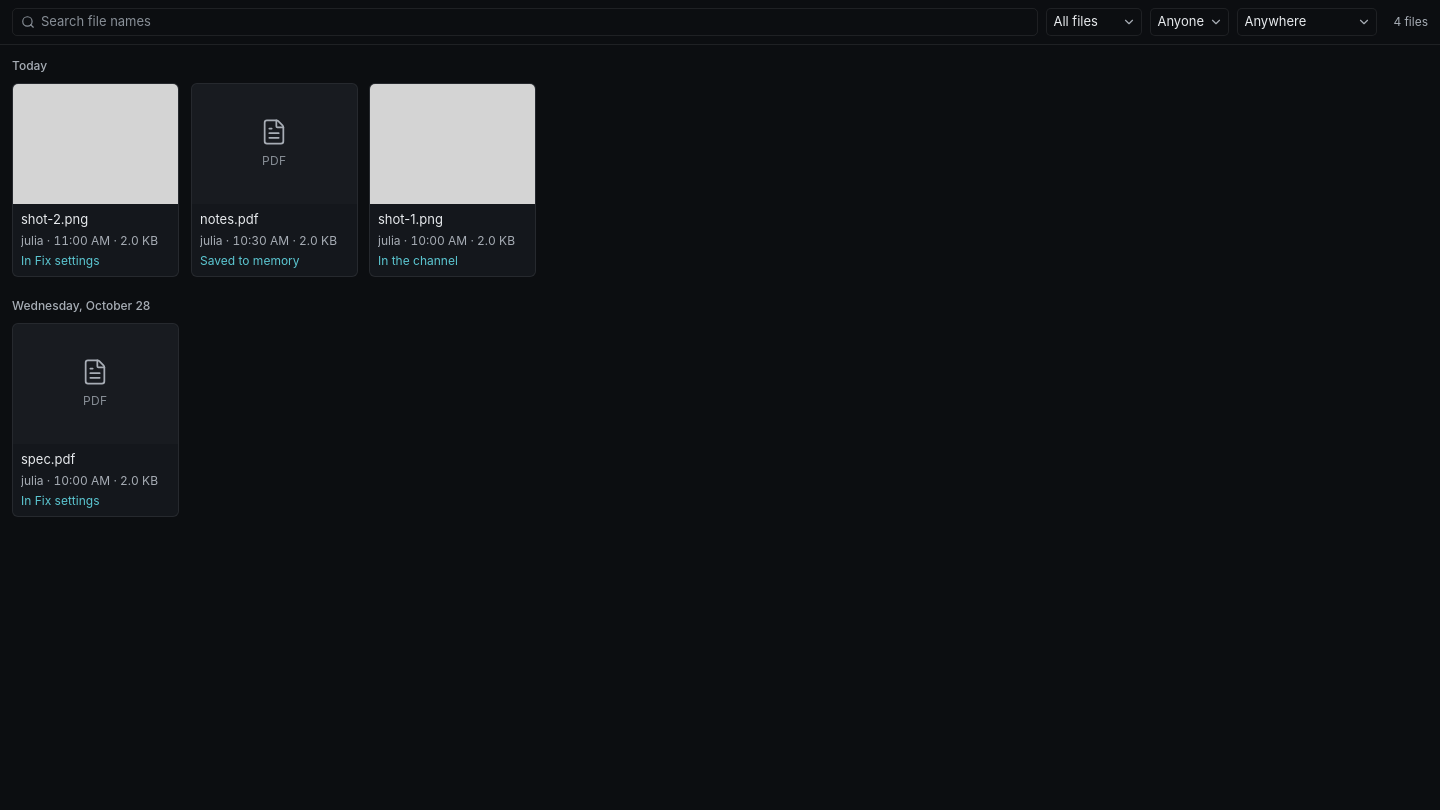
Test case: <RoomFiles /> › opens the preview at the file clicked, and its arrows step through the gallery
Click the button with aria-label "Preview notes.pdf" at (274, 144), box 192,84 -> 356,204
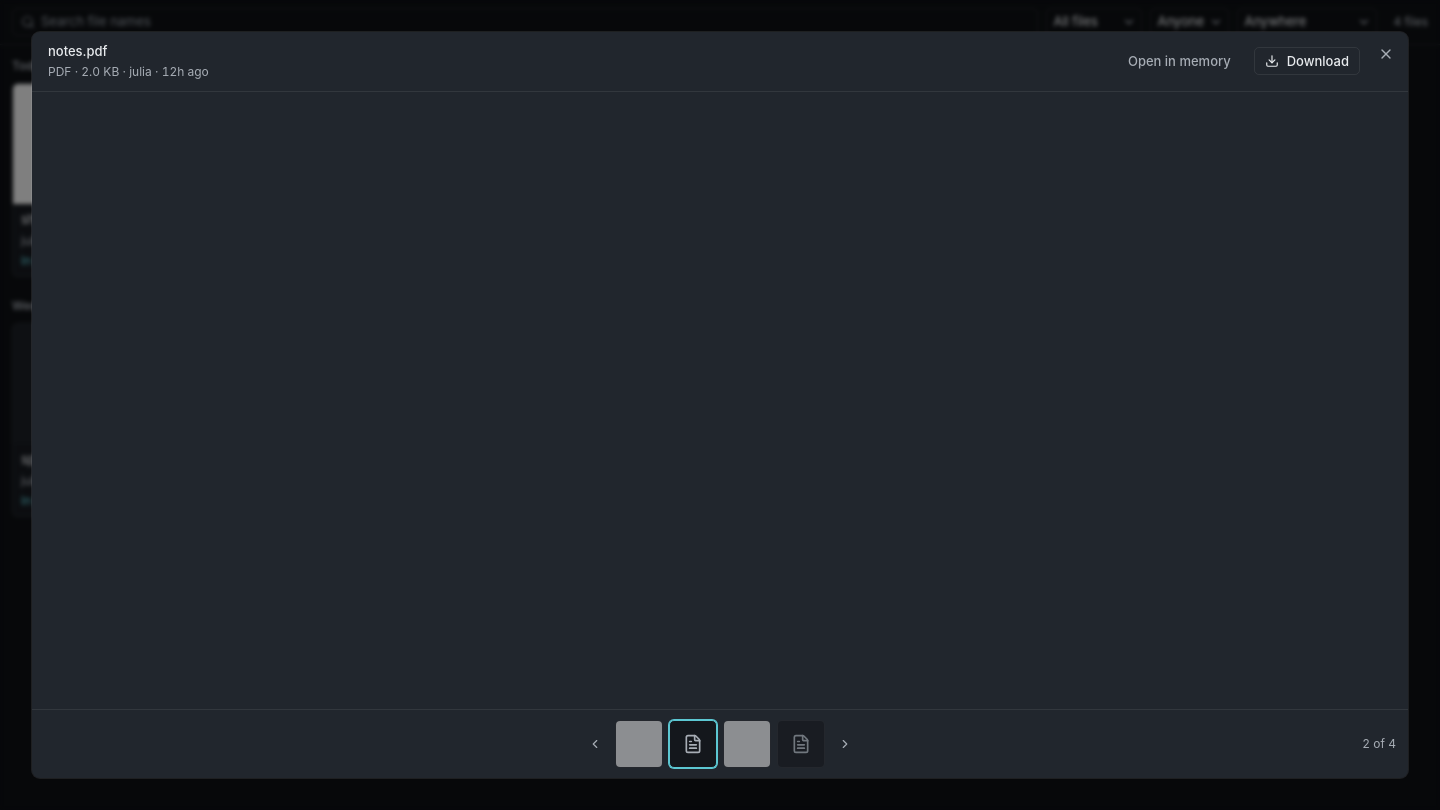
Expected: the text "2 of 4" is shown, 1362,736 -> 1396,751
Press ArrowRight in the dialog
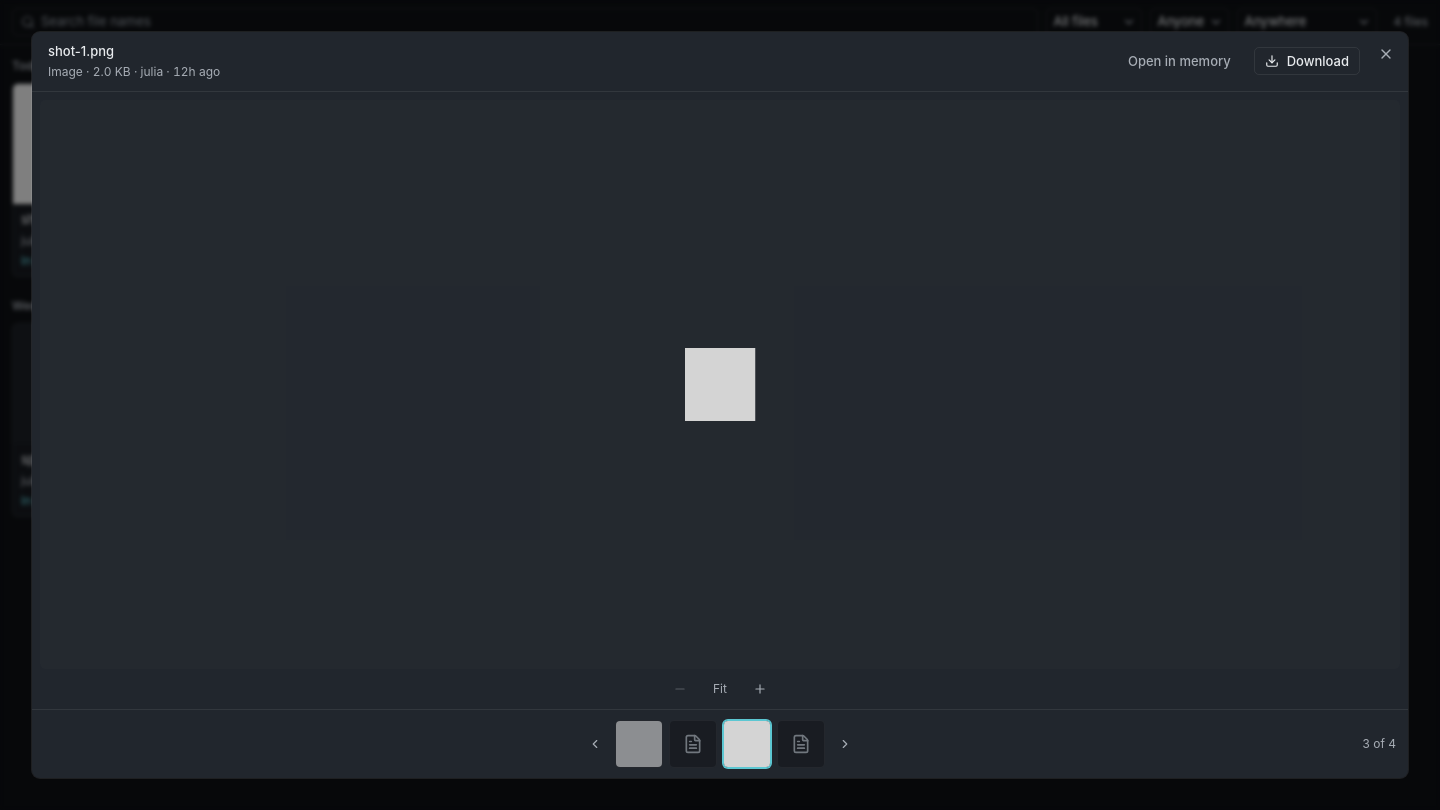
Expected: the text "3 of 4" is shown, 1362,736 -> 1396,751
Expected: the heading "shot-1.png" is shown, 48,43 -> 114,59
Press ArrowRight in the dialog
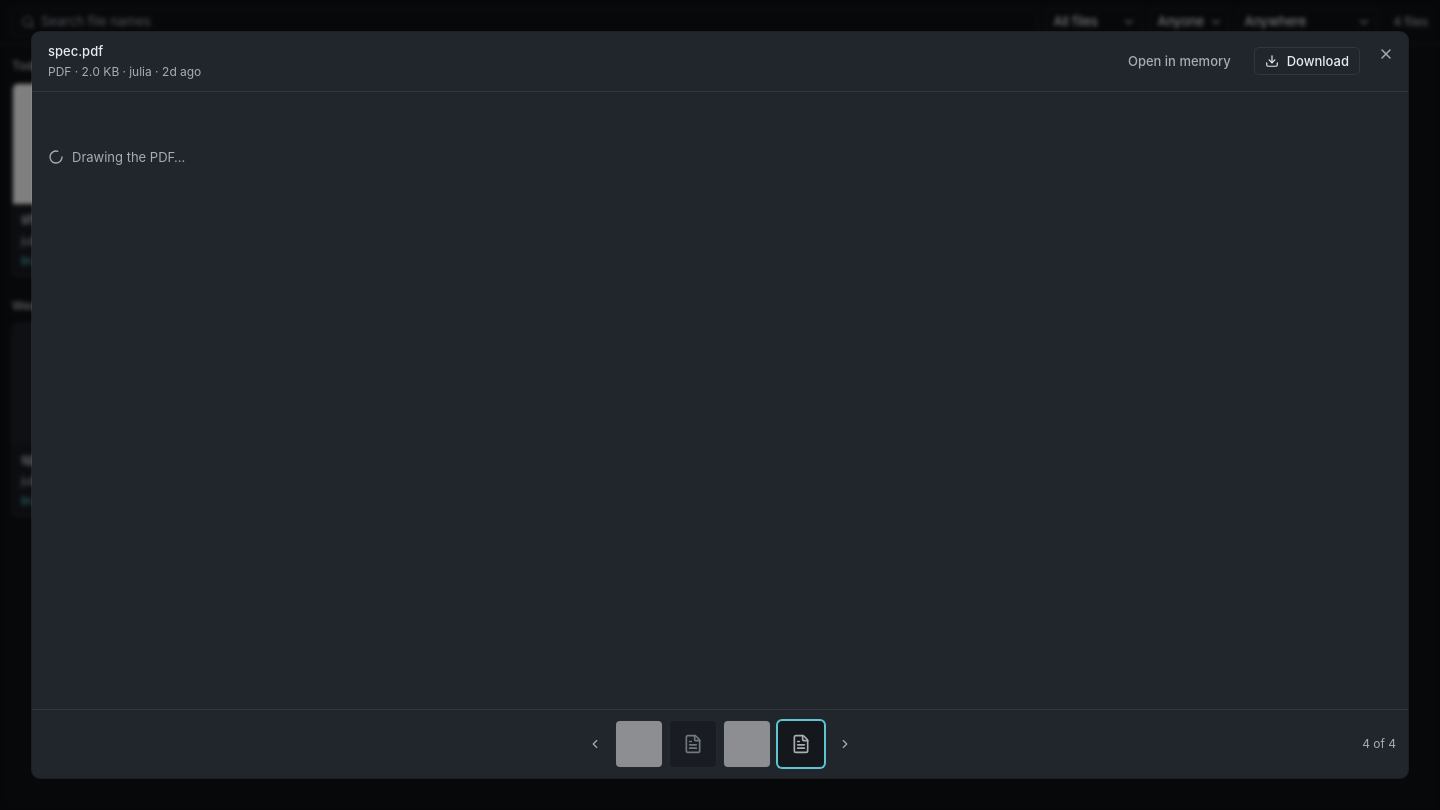
Press ArrowRight in the dialog
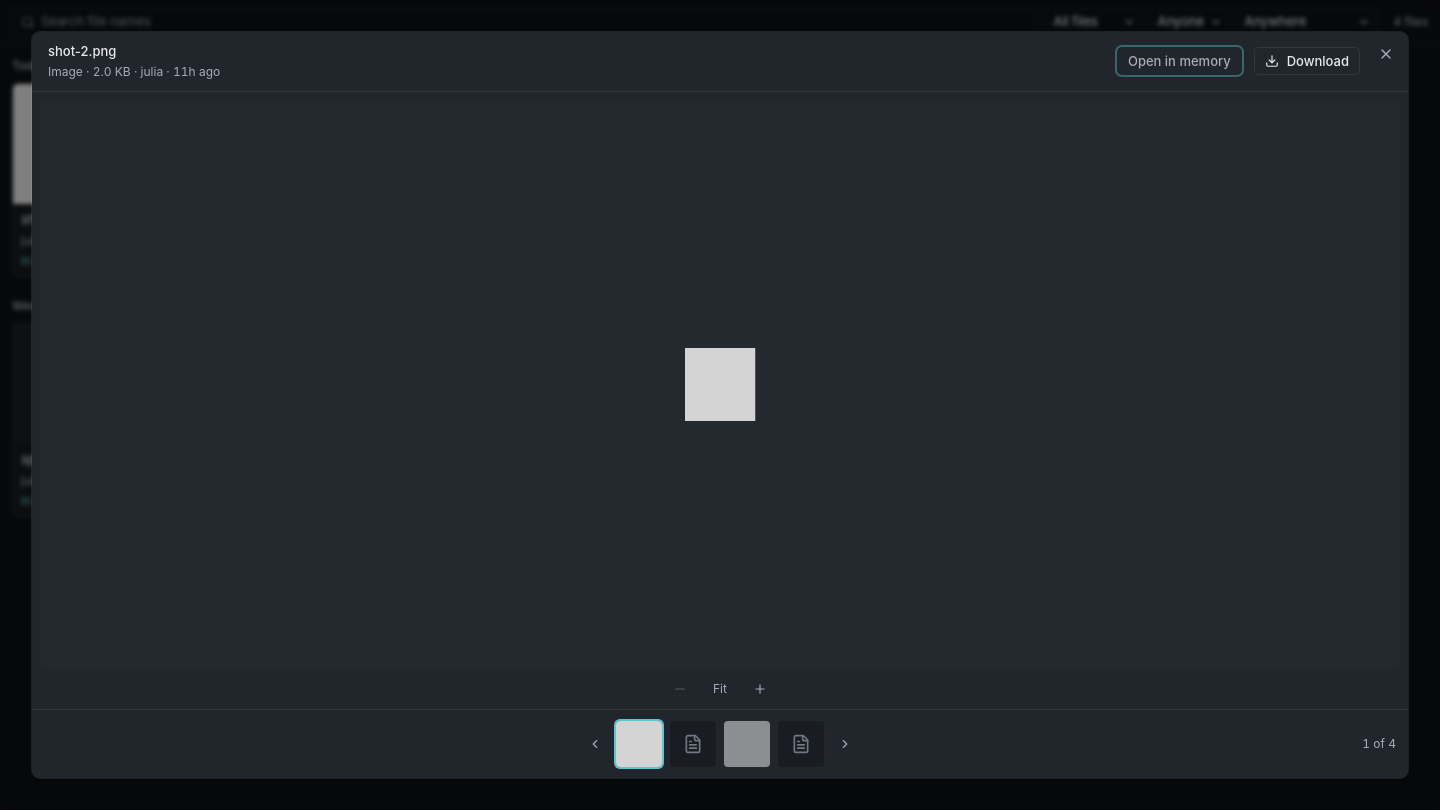
Expected: the heading "shot-2.png" is shown, 48,43 -> 116,59
